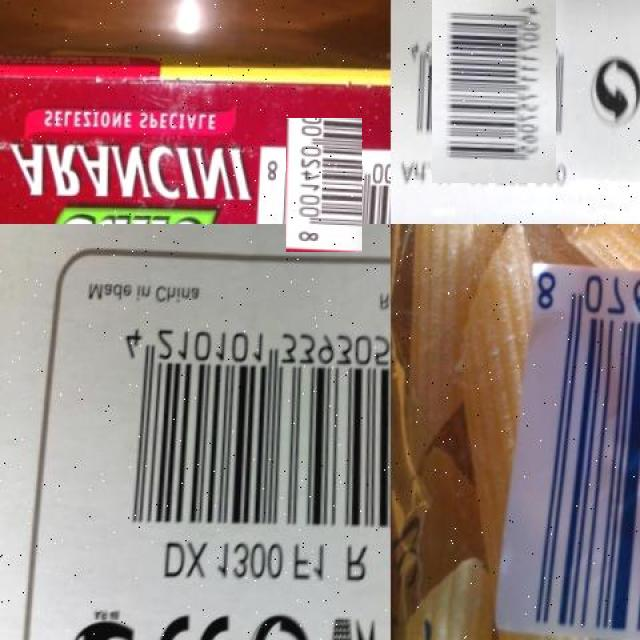Barcode: (108, 316, 391, 544), (505, 261, 640, 640), (415, 10, 572, 167), (271, 133, 377, 238)
